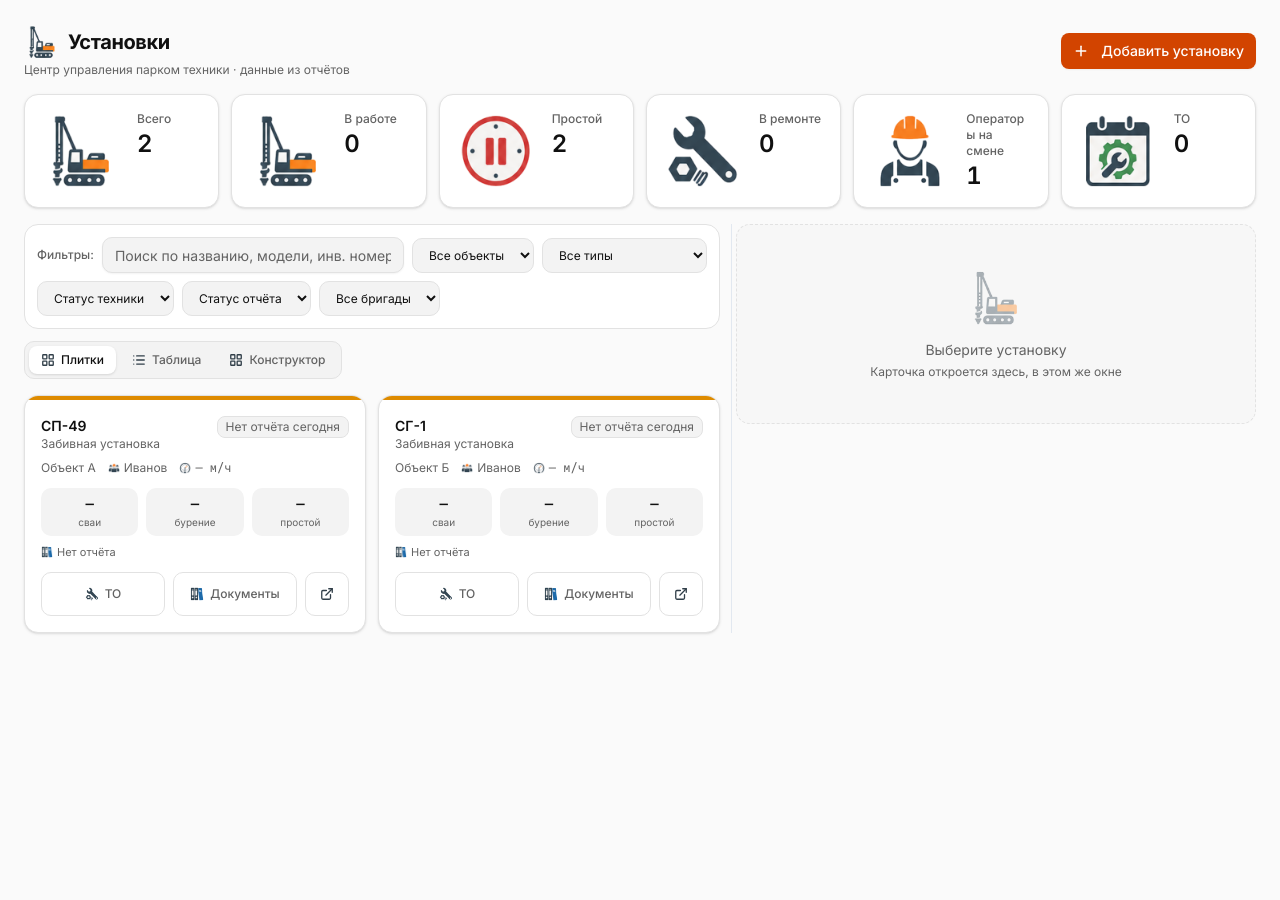
Test: AdminEquipment: сброс фильтров (R130 №6) › кнопка «Сбросить фильтры» видна, когда фильтры активны и есть результаты
expect the text "СП-49" is shown: met, box [41, 417, 87, 434]
expect the text "СГ-1" is shown: met, box [395, 417, 426, 434]
Выбираем фильтр по объекту
Step 1. Select "Объект А" in the dropdown named "Фильтр по объекту" → (473, 255), box [412, 238, 534, 272]
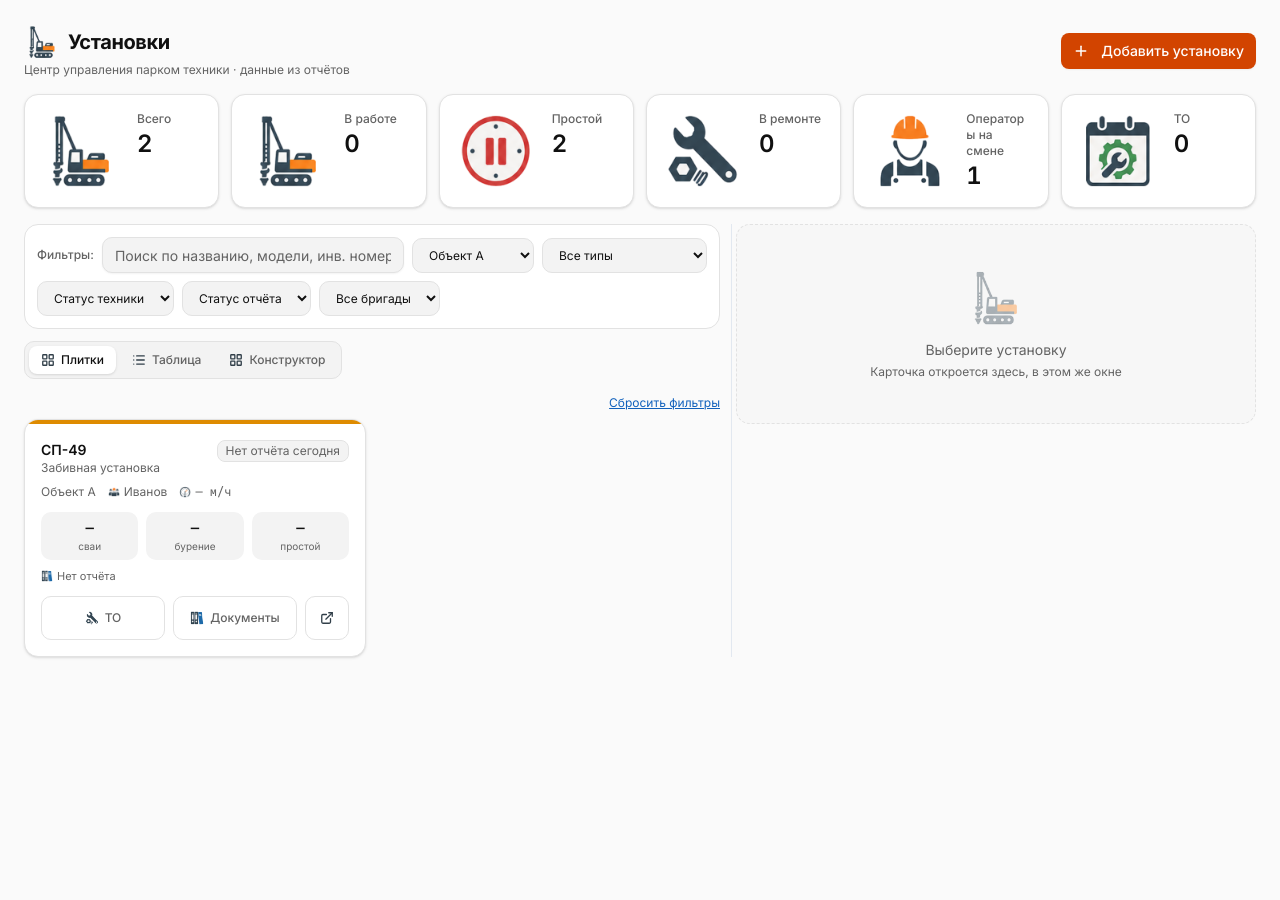
expect the text "СП-49" is shown: met, box [41, 441, 87, 458]
expect the text "СГ-1" is gone: met
expect the button "Сбросить фильтры" is shown: met
Нажимаем сброс — фильтры очищаются, обе карточки снова видны
Step 2. Click the button "Сбросить фильтры" → (665, 403), box [609, 395, 720, 411]
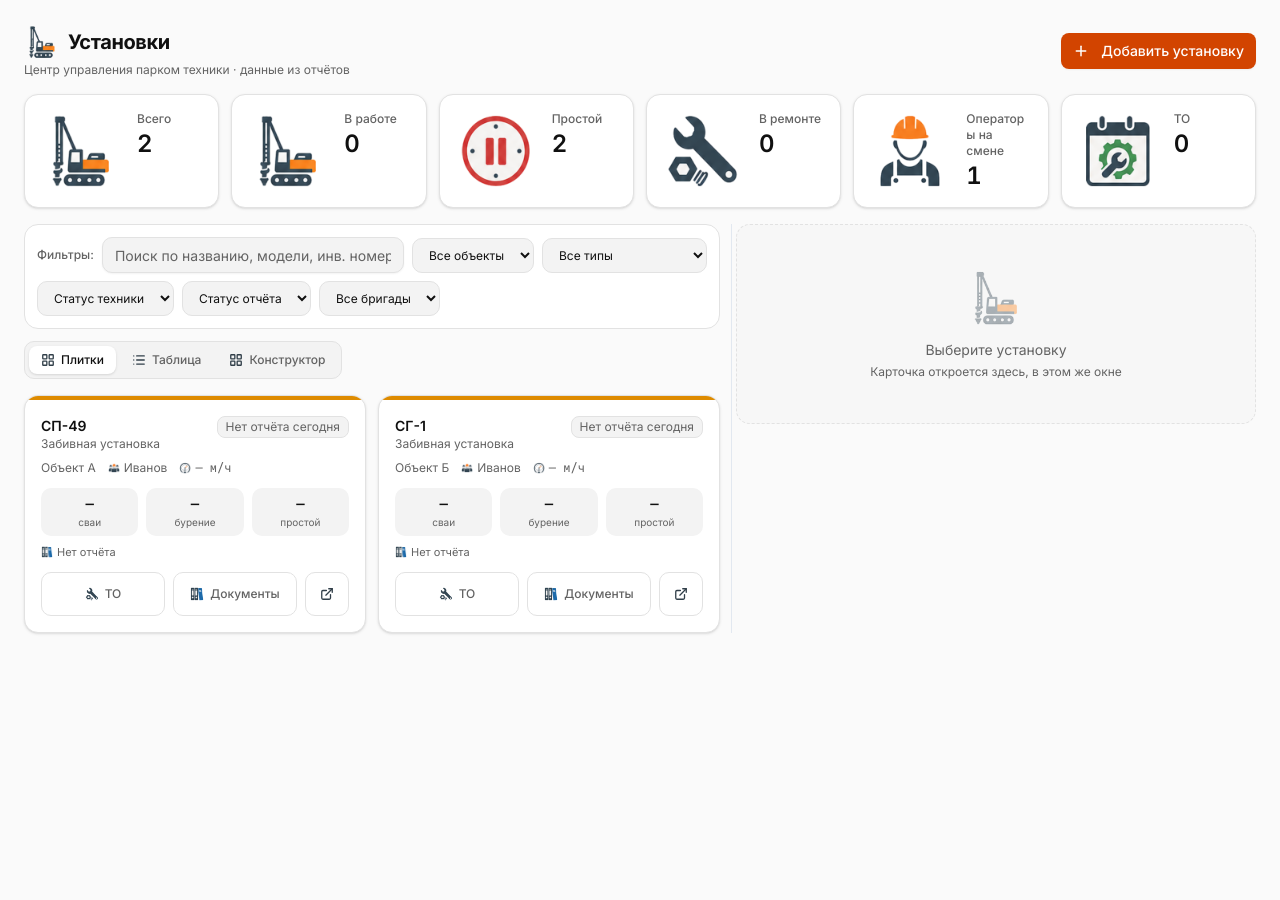
expect the text "СГ-1" is shown: met, box [395, 417, 426, 434]
expect the button "Сбросить фильтры" is gone: met
